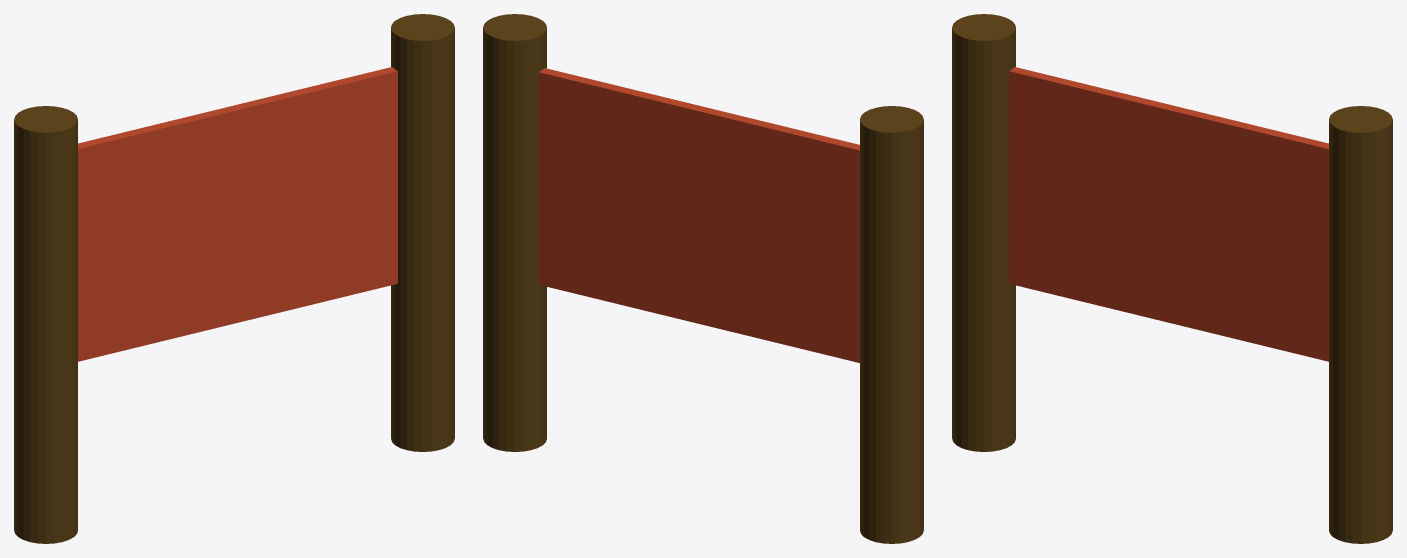
The model's file is Sign.fbx.
3 renders of one model, left to right at view 1: azimuth 30°, elevation 25°; view 2: azimuth 150°, elevation 25°; view 3: azimuth 330°, elevation 25°, orthographic.
Parts seen in each view (by area): view 1: Cube.001; view 2: Cube.001; view 3: Cube.001.
Part boxes in pixels (bbox=[...]): Cube.001: bbox=[14, 14, 454, 543]; Cube.001: bbox=[483, 14, 923, 543]; Cube.001: bbox=[952, 14, 1392, 543].
Size of the model in its own units: 83.78 by 76.15 by 10.73.
